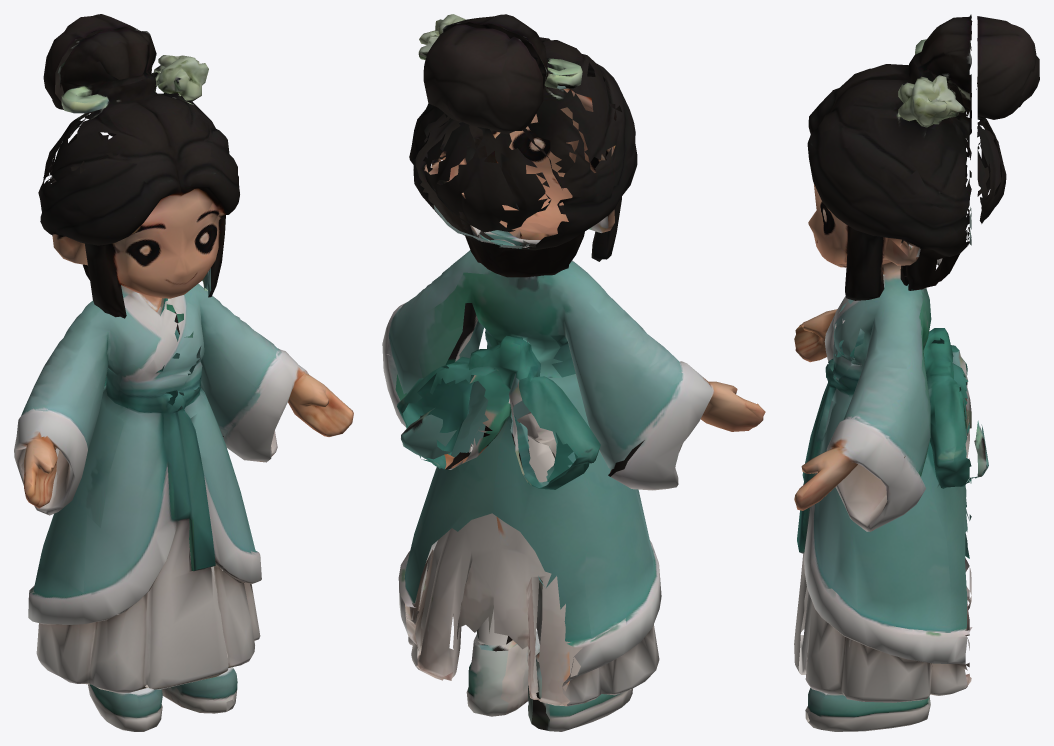
The model's file is woman_a.fbx.
3 renders of one model, left to right at view 1: azimuth 30°, elevation 25°; view 2: azimuth 150°, elevation 25°; view 3: azimuth 270°, elevation 25°, orthographic. The views are drawn at different scales.
Visible parts, largest first — view 1: 1_output_1794125378826772_rTNKAyORu.002; view 2: 1_output_1794125378826772_rTNKAyORu.002; view 3: 1_output_1794125378826772_rTNKAyORu.002.
Part boxes in pixels (x1,y1,x2,y2): 1_output_1794125378826772_rTNKAyORu.002: (14, 14, 353, 731); 1_output_1794125378826772_rTNKAyORu.002: (382, 14, 765, 731); 1_output_1794125378826772_rTNKAyORu.002: (794, 14, 1039, 731).
Size of the model in its own units: 0.835 by 1.55 by 0.5101.
Materials: 1 (1 with a texture image).
